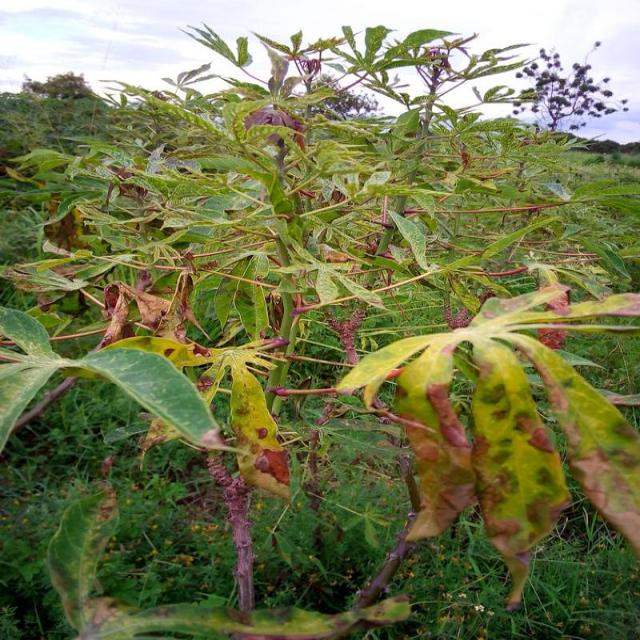cassava leaf: (335, 282, 640, 610), (229, 358, 293, 502)
